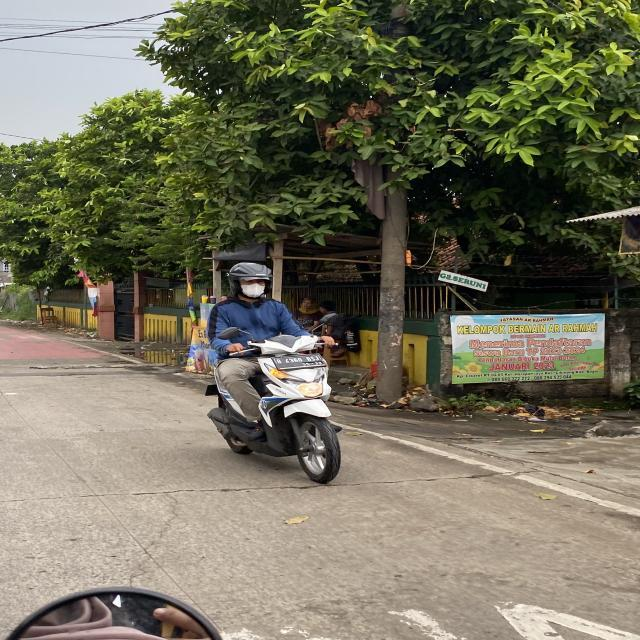Helmet: (228, 262, 271, 296)
Number Plate: (272, 354, 325, 369)
Rearview Mirror: (8, 587, 221, 639), (218, 327, 241, 340), (320, 312, 337, 323)
